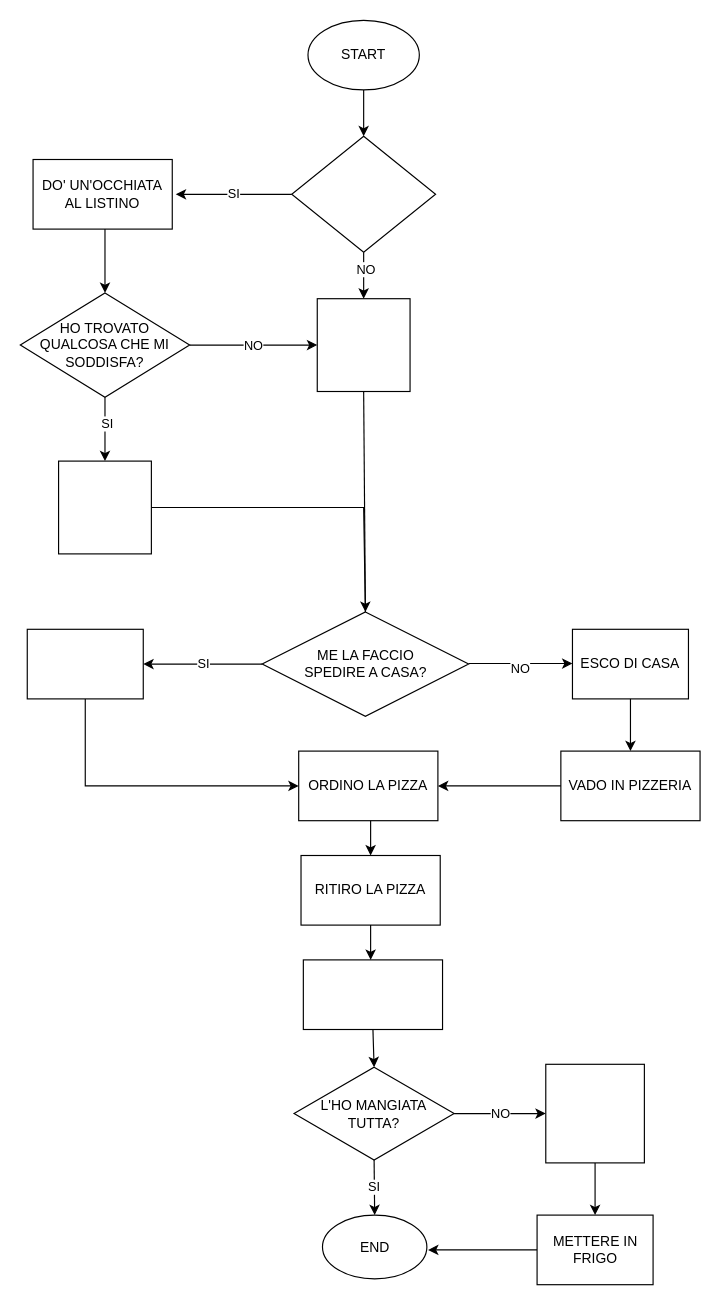
Some shapes in this 720 by 1305 pixel diagram are drawn without their labels. Here are the shapes that lost their labels. From the top down, the box of each, then its label:
(291, 135, 436, 252): GUARDO IL LISTINO?
(316, 298, 410, 392): SCELGO LA SOLITA PIZZA
(57, 460, 151, 554): SCELGO UNA PIZZA DIVERSA
(26, 628, 143, 699): CHIAMO LA PIZZERIA
(302, 959, 443, 1030): MANGIO LA PIZZA
(545, 1063, 644, 1163): RICORDARE DI METTERE IN FRIGO
